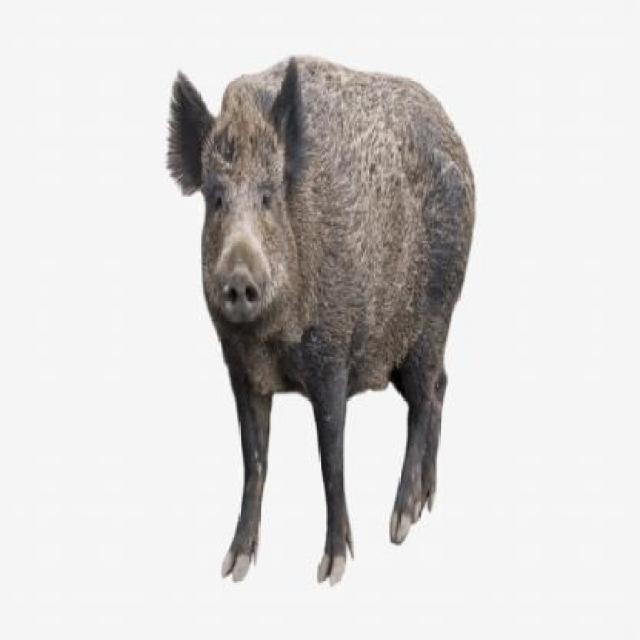Wild Boar: (165, 50, 478, 592)
